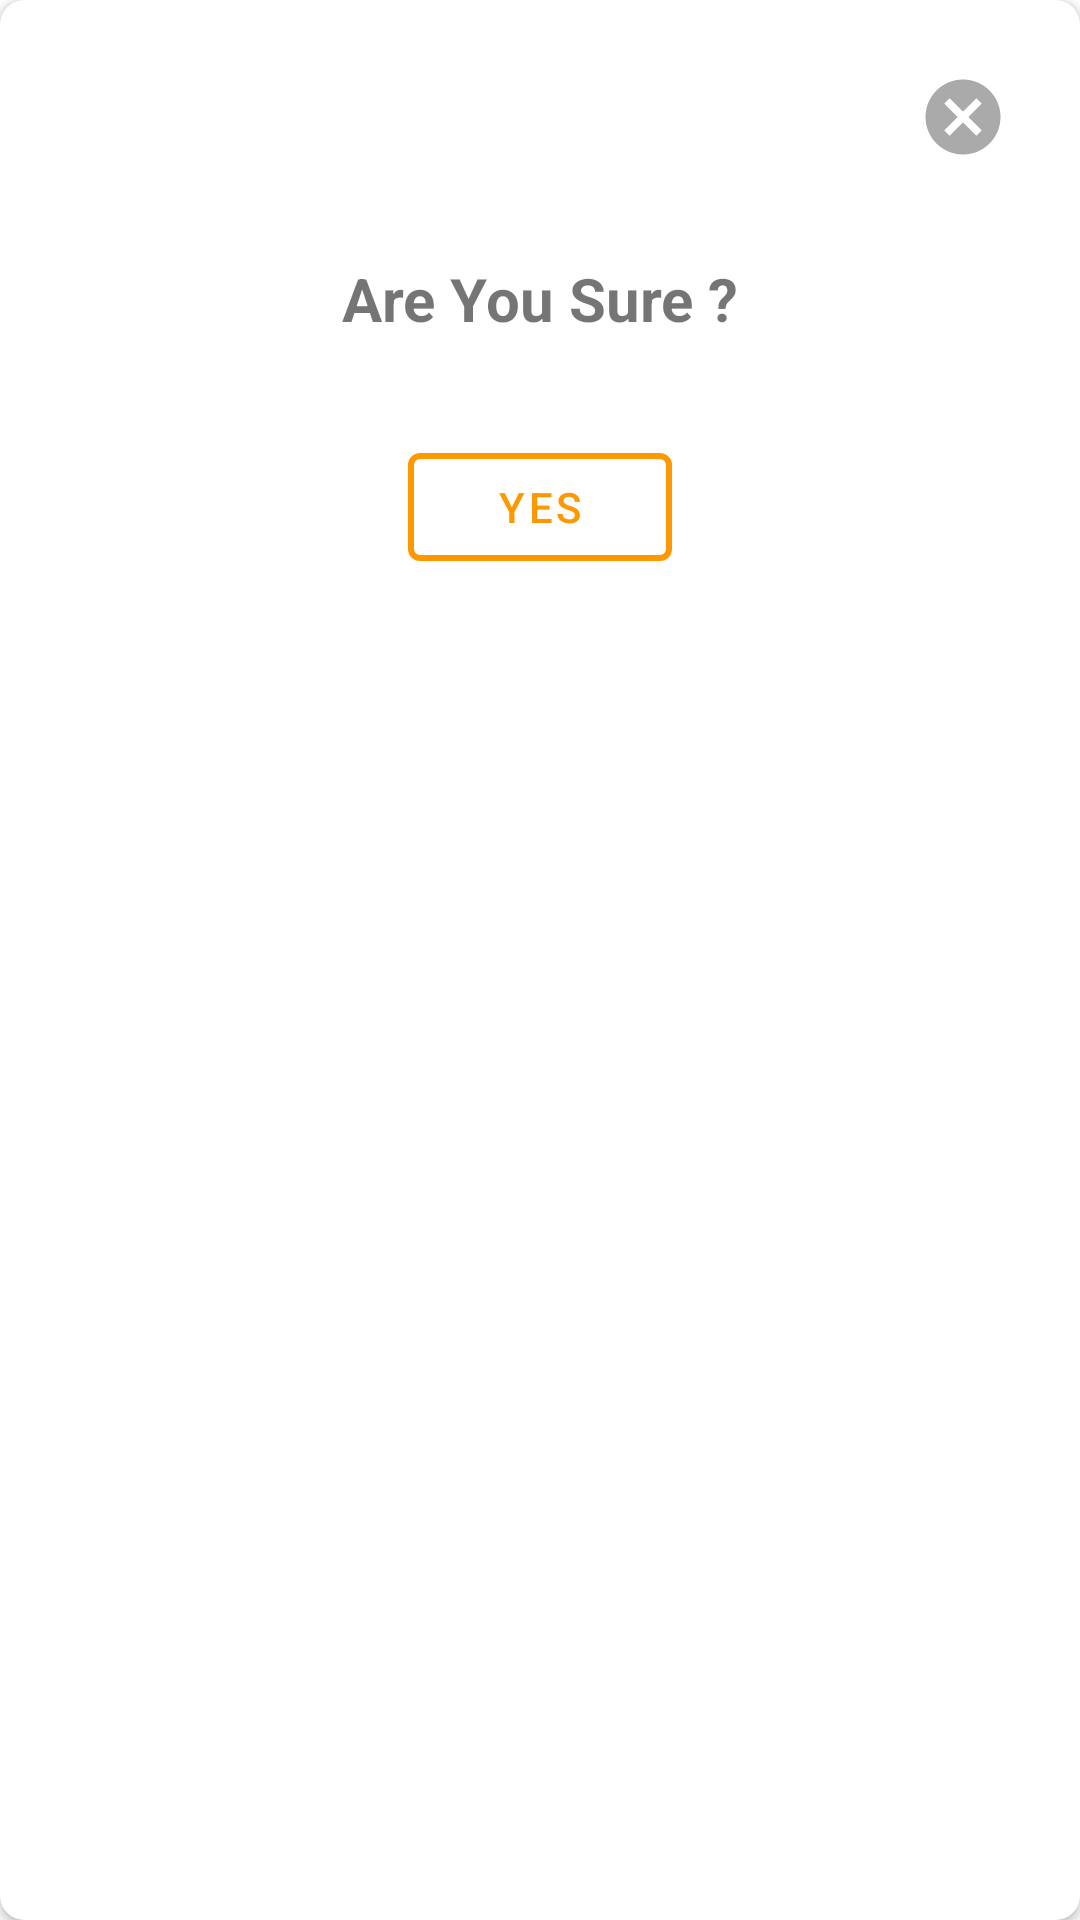

Icons on this 1080w x 1920h Android screen, each with its box as {"left": x1, "top": y1, "right": x2, "bottom": y2}:
cancel: {"left": 925, "top": 79, "right": 1001, "bottom": 155}
